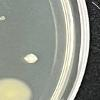white: (0, 77, 34, 100), (23, 53, 38, 65), (0, 14, 8, 22)
